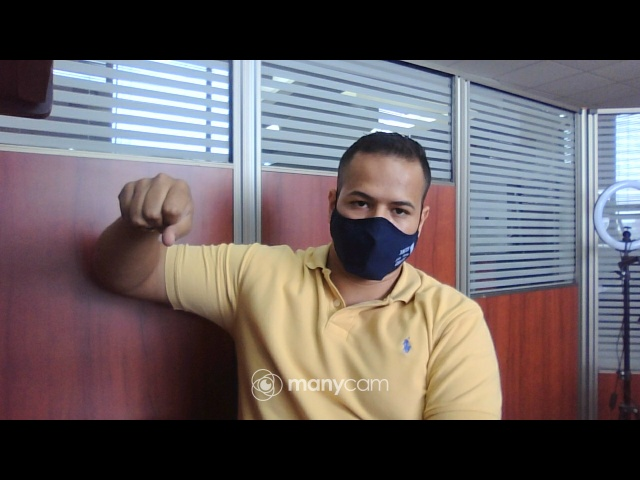Yes: (109, 170, 200, 249)
